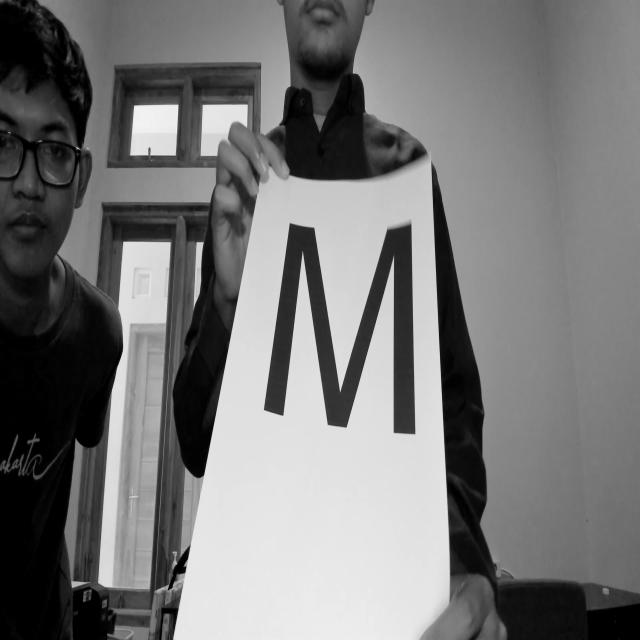m: (254, 208, 430, 471)
